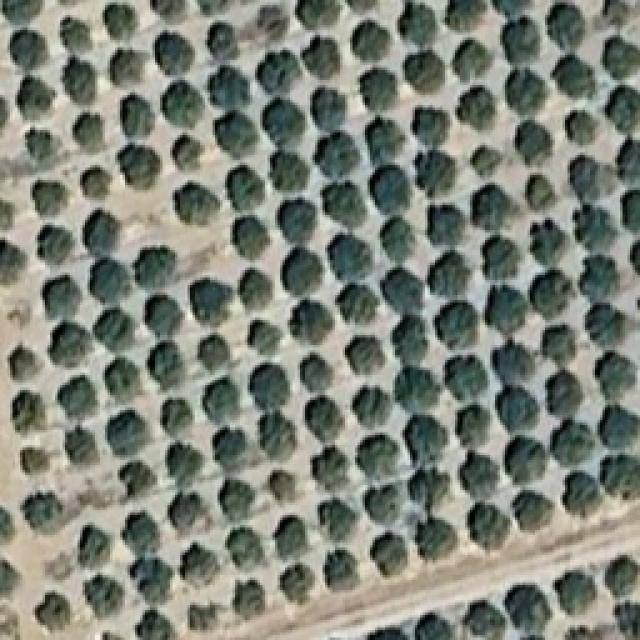Tree: (504, 584, 552, 633), (404, 415, 448, 466), (314, 131, 360, 179), (569, 155, 615, 203), (328, 234, 373, 282), (263, 98, 306, 148), (529, 269, 572, 319), (573, 204, 618, 251), (550, 419, 595, 466), (369, 165, 412, 214), (190, 278, 233, 327), (322, 182, 367, 228), (395, 366, 440, 412), (380, 267, 423, 315), (485, 285, 528, 333), (118, 144, 162, 190), (491, 339, 535, 385), (495, 386, 539, 432), (161, 80, 204, 127), (435, 301, 478, 348), (468, 503, 511, 550), (282, 248, 323, 297), (595, 351, 636, 400), (257, 50, 302, 94), (215, 112, 258, 158), (505, 69, 548, 115), (49, 322, 92, 368), (428, 251, 471, 297), (445, 355, 488, 401), (415, 150, 456, 198), (505, 436, 546, 484), (365, 118, 405, 167), (289, 300, 333, 344), (552, 55, 597, 98), (554, 570, 597, 615), (130, 558, 173, 603), (356, 434, 399, 479), (249, 363, 290, 410), (459, 451, 499, 499), (259, 410, 297, 460), (408, 468, 451, 512), (174, 183, 219, 225), (89, 258, 130, 304), (107, 410, 148, 456), (471, 184, 511, 231), (501, 16, 540, 64), (546, 3, 584, 52), (82, 209, 120, 258), (208, 65, 251, 108), (415, 518, 458, 561), (599, 405, 640, 450), (579, 255, 619, 301), (134, 246, 177, 288), (600, 454, 640, 499), (563, 471, 602, 517), (404, 50, 445, 93), (93, 308, 134, 351), (336, 283, 379, 324), (585, 303, 626, 346), (84, 574, 124, 618), (16, 75, 55, 120), (278, 198, 317, 243), (305, 396, 344, 441), (393, 315, 428, 365), (226, 165, 264, 211), (530, 219, 566, 267), (58, 375, 98, 418), (464, 600, 507, 640), (155, 31, 194, 75), (456, 86, 495, 130), (180, 543, 219, 587), (515, 120, 553, 165), (482, 235, 520, 280), (121, 511, 159, 556), (22, 492, 63, 533), (513, 490, 554, 531), (605, 85, 640, 133), (148, 342, 183, 390), (453, 39, 492, 82), (301, 36, 340, 79), (398, 3, 437, 46), (231, 216, 270, 259), (43, 275, 82, 318), (370, 533, 408, 577), (63, 56, 97, 105), (167, 441, 203, 487), (547, 370, 583, 416), (269, 150, 309, 191), (602, 36, 640, 79), (145, 295, 183, 338), (203, 378, 239, 423), (380, 217, 415, 263), (9, 29, 48, 70), (351, 20, 390, 61), (353, 386, 392, 427), (319, 499, 357, 541), (312, 446, 348, 490), (411, 108, 450, 148), (226, 528, 264, 569), (167, 492, 205, 533), (360, 68, 396, 111), (219, 479, 255, 522), (312, 88, 347, 132), (105, 358, 140, 402), (213, 428, 248, 472), (120, 94, 154, 139), (427, 206, 465, 246), (345, 336, 385, 374), (364, 484, 402, 524), (78, 524, 112, 568), (324, 549, 359, 591), (11, 390, 45, 433), (274, 515, 308, 558), (456, 404, 490, 447), (542, 324, 577, 365), (605, 555, 639, 597), (38, 225, 74, 264), (25, 129, 60, 169), (239, 269, 273, 310), (280, 563, 314, 604), (119, 462, 157, 498), (35, 592, 70, 630), (297, 0, 342, 29), (32, 180, 68, 216), (110, 49, 145, 86), (65, 427, 99, 465), (300, 353, 333, 392), (233, 580, 266, 619), (445, 0, 486, 31), (103, 4, 138, 40), (73, 113, 104, 153), (206, 23, 239, 60), (198, 334, 231, 371), (0, 239, 26, 285), (248, 320, 282, 355), (162, 399, 193, 437), (136, 609, 174, 640), (616, 138, 640, 185), (60, 16, 91, 52), (172, 135, 203, 170), (258, 5, 289, 40), (525, 174, 555, 210), (415, 612, 453, 640), (565, 111, 596, 145), (9, 345, 38, 381), (614, 601, 640, 640), (80, 166, 111, 198), (470, 145, 501, 176), (3, 0, 43, 24), (269, 470, 295, 503), (188, 603, 218, 631), (621, 190, 640, 233), (150, 0, 186, 22), (20, 448, 49, 474), (46, 554, 71, 582), (492, 1, 530, 19), (603, 0, 629, 26), (0, 560, 19, 595), (366, 627, 409, 640), (565, 625, 601, 640), (0, 506, 14, 542), (198, 1, 229, 15), (0, 200, 14, 230), (347, 1, 378, 13), (630, 240, 640, 274), (0, 97, 10, 130), (101, 631, 124, 640)
